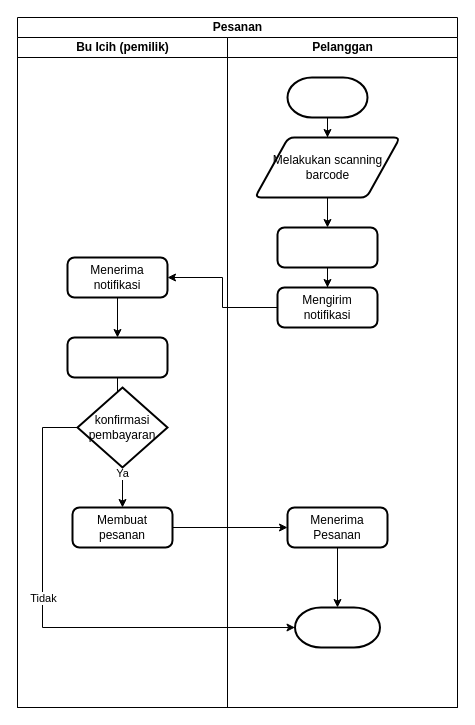
Some shapes in this 475 by 725 pixel diagram are drawn without their labels. The centre of each missing label's shape, as x and y in pixels:
"Melihat pesanan" belongs at (x=117, y=357).
"Memesan makanan" belongs at (x=327, y=247).
"Mulai" belongs at (x=327, y=97).
"Selesai" belongs at (x=337, y=627).
